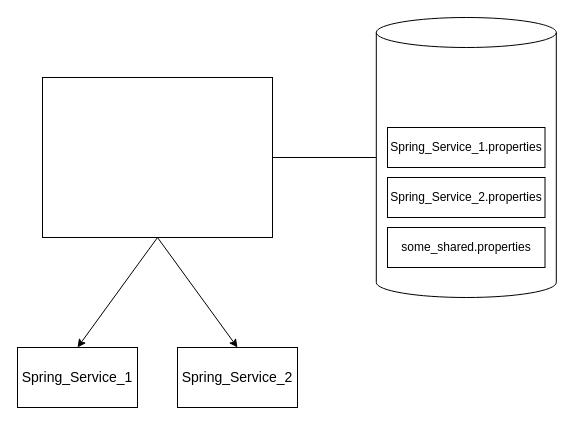
Some shapes in this 574 by 425 pixel diagram are drawn without their labels. The box of each missing label's shape, as (x1, y1, x2, y2) in pixels:
Git - Repository: (375, 16, 556, 298)
Spring Cloud Config Server: (42, 76, 272, 238)
